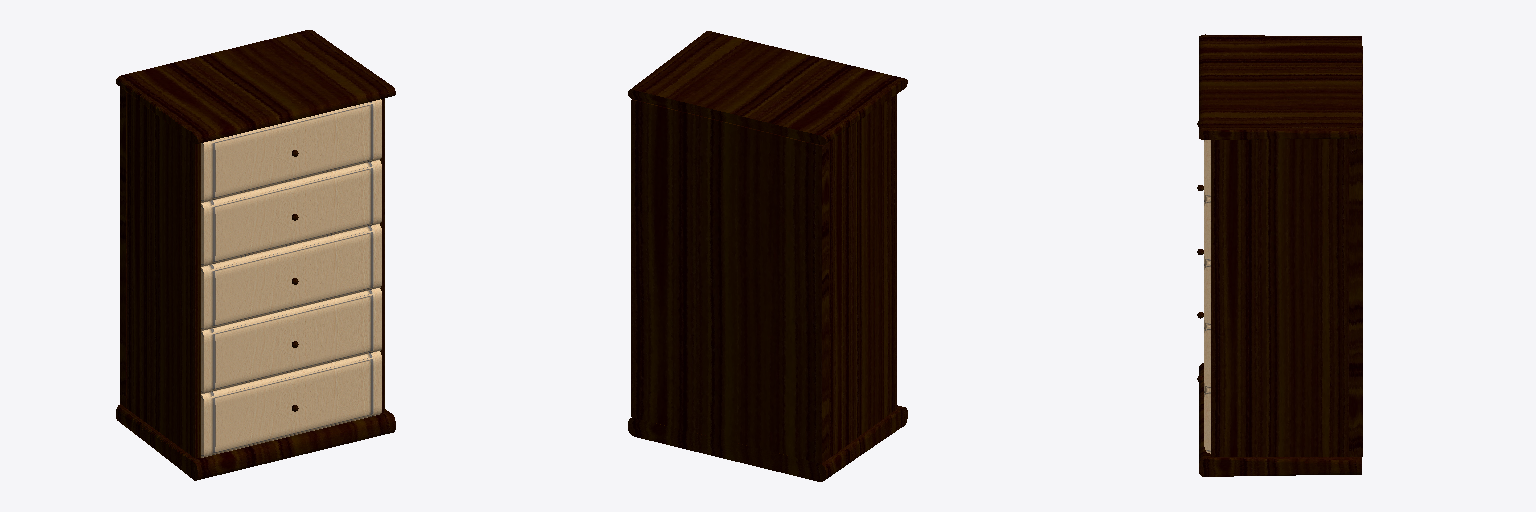
3 renders of one model, left to right at view 1: azimuth 30°, elevation 25°; view 2: azimuth 150°, elevation 25°; view 3: azimuth 270°, elevation 25°, orthographic.
Parts seen in each view (by area): view 1: Box028, Box030, Box017, Box022, Box005, Box012, Box027, Box007, Box006, Box029; view 2: Box006, Box028, Box030, Box007; view 3: Box029, Box030, Box006, Box007.
Part boxes in pixels (x1,y1,x2,y2): Box028: (127, 93, 200, 458); Box030: (116, 30, 395, 143); Box017: (201, 224, 381, 330); Box022: (201, 160, 381, 266); Box005: (201, 351, 381, 457); Box012: (201, 288, 381, 393); Box027: (201, 99, 381, 202); Box007: (116, 404, 395, 480); Box006: (120, 87, 126, 407); Box029: (380, 98, 384, 412); Box006: (631, 99, 828, 463); Box028: (829, 94, 896, 457); Box030: (628, 31, 907, 144); Box007: (628, 405, 907, 481); Box029: (1211, 139, 1348, 456); Box030: (1199, 34, 1361, 139); Box006: (1349, 46, 1362, 456); Box007: (1199, 363, 1361, 476).
Size of the model in its own units: 33.3 by 55.66 by 24.09.
Materials: 2 (2 with a texture image).